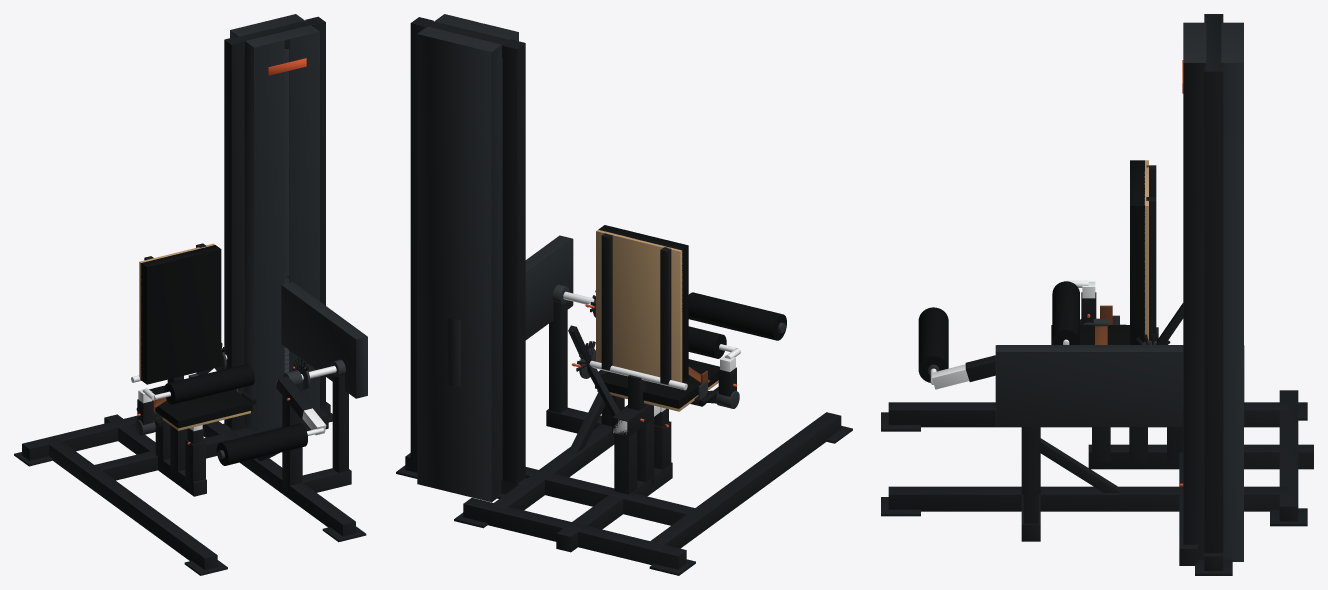
3 renders of one model, left to right at view 1: azimuth 30°, elevation 25°; view 2: azimuth 150°, elevation 25°; view 3: azimuth 270°, elevation 25°, orthographic. The views are drawn at different scales.
Visible parts, largest first — view 1: shroud.003, pad.001, shroud.004, frame.012, frame.004, shroud.008, shroud, frame.006, pad, pad.002, pad.003, frame.013 (+16 smaller); view 2: shroud.002, frame.012, wood.001, shroud, frame.004, frame.001, frame.013, frame.008, shroud.008, pad.002, frame.006, frame (+17 smaller); view 3: shroud.001, shroud.009, frame.013, frame.006, frame.004, frame, pad.001, frame.001, pad.002, shroud.005, pad.003, frame.047 (+13 smaller).
Boxes of the visible parts, x1,y1,x2,y2 form: shroud.003: (254,40,284,431); pad.001: (141,245,221,384); shroud.004: (289,31,319,419); frame.012: (224,36,244,428); frame.004: (45,438,217,569); shroud.008: (281,285,355,397); shroud: (230,30,254,431); frame.006: (202,421,355,536); pad: (149,385,252,428); pad.002: (216,423,307,465); pad.003: (164,364,254,404); frame.013: (305,16,325,407); shroud.002: (417,34,491,502); frame.012: (502,39,525,483); wood.001: (596,229,682,382); shroud: (491,32,518,501); frame.004: (646,412,841,548); frame.001: (463,498,686,569); frame.013: (410,17,433,459); frame.008: (525,467,694,525); shroud.008: (525,239,572,339); pad.002: (688,292,786,340); frame.006: (490,405,627,510); frame: (556,462,672,552); shroud.001: (1183,62,1243,561); shroud.009: (996,352,1183,426); frame.013: (1204,63,1223,553); frame.006: (888,486,1288,511); frame.004: (888,402,1288,427); frame: (1088,444,1313,469); pad.001: (1130,160,1144,344); frame.001: (1279,390,1298,521); pad.002: (918,307,948,382); shroud.005: (1183,22,1243,62); pad.003: (1052,281,1079,344); frame.047: (1023,426,1038,523).
Bounding box in the file's own units: 1.62 × 2.2 × 1.73.
